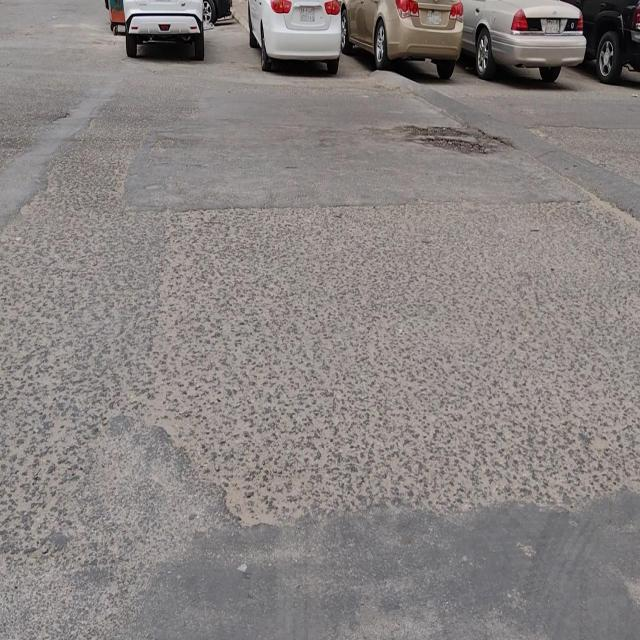Potholes: (402, 122, 501, 158)
